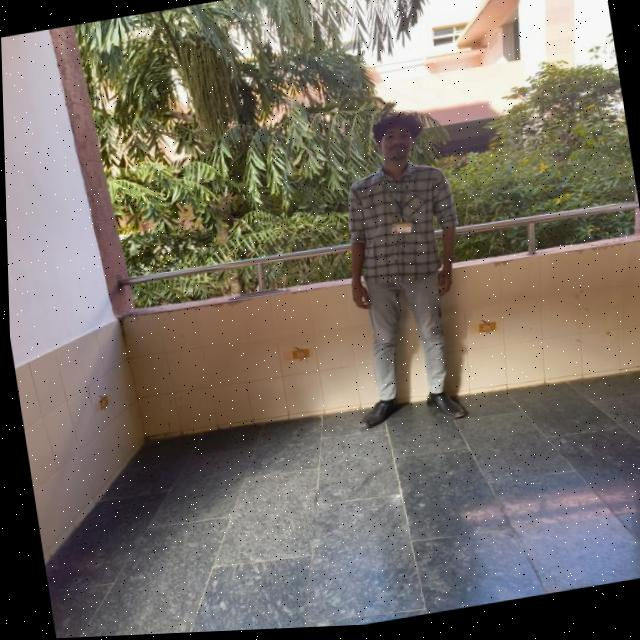id_card: (377, 168, 416, 240)
